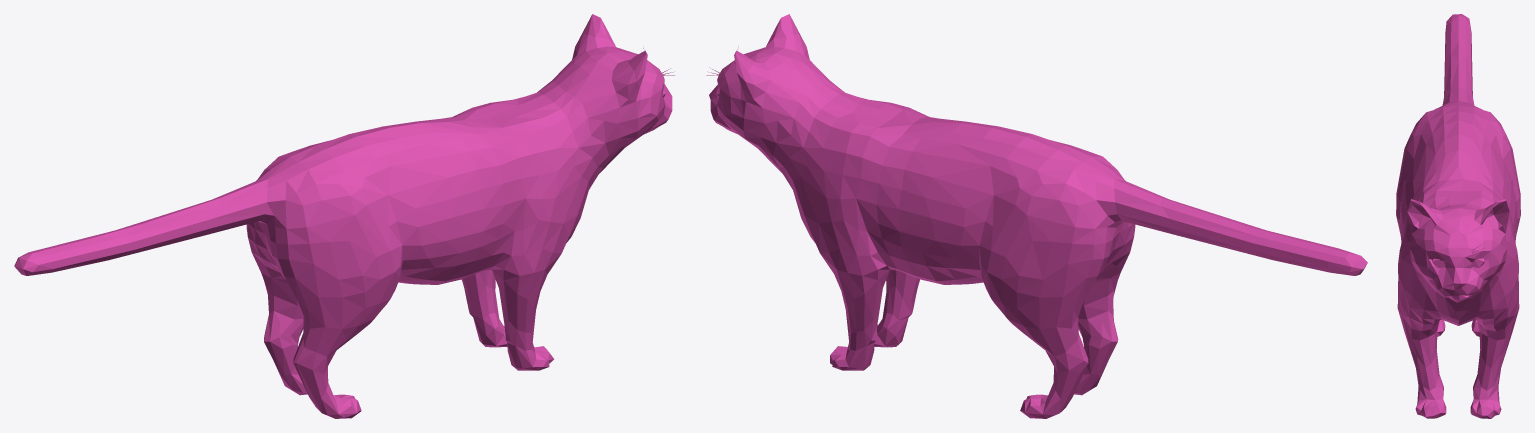
Rendered from animal01.FBX.
3 views of the same model, side by side, from view 1: azimuth 30°, elevation 25°; view 2: azimuth 150°, elevation 25°; view 3: azimuth 270°, elevation 25° (orthographic). The views are drawn at different scales.
Parts seen in each view (by area): view 1: Cat; view 2: Cat; view 3: Cat.
Boxes of the visible parts, <box> form: Cat: <box>14,14,674,418</box>; Cat: <box>706,14,1367,418</box>; Cat: <box>1396,14,1520,418</box>.
Bounding box in the file's own units: 108 × 46.74 × 20.38.
